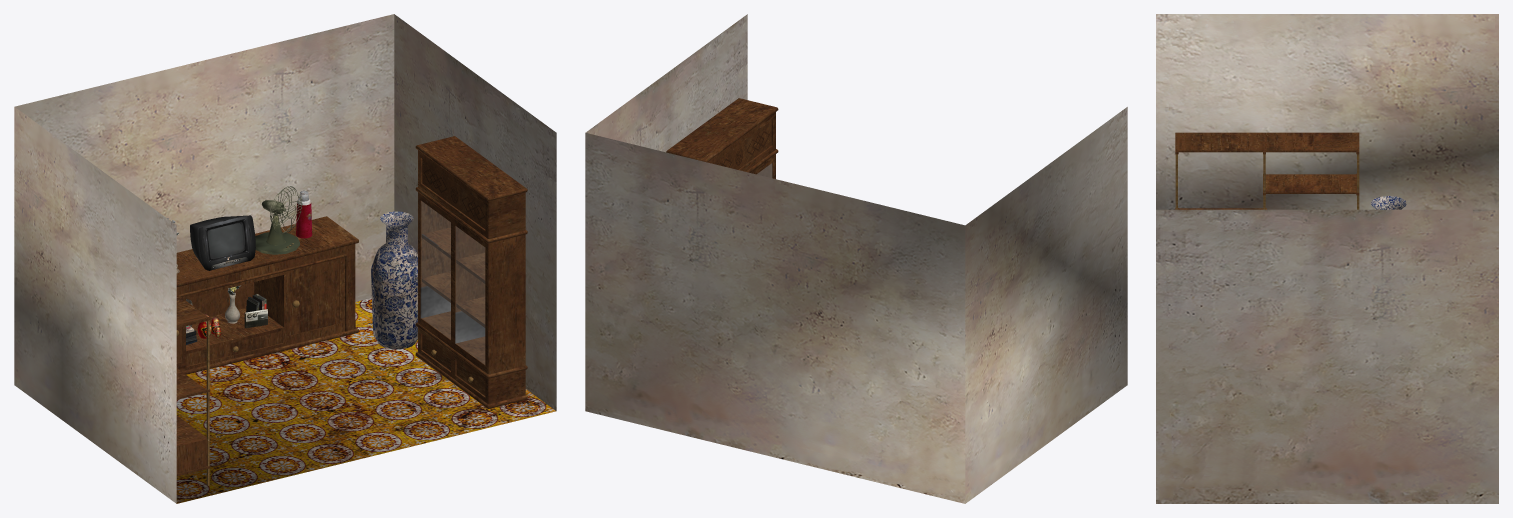
Rendered from vietnamese_house_in_2000s.glb.
3 views of the same model, side by side, from view 1: azimuth 30°, elevation 25°; view 2: azimuth 150°, elevation 25°; view 3: azimuth 270°, elevation 25° (orthographic). The views are drawn at different scales.
Parts seen in each view (by area): view 1: ExteriorWall1.002, ExteriorWall1.007, shelf 3.001, shelf 1.001, glass.001, vase.002, shelf 2.001, tv.001, prop1.001, prop3.001, prop6.001; view 2: ExteriorWall1.002, shelf 3.001; view 3: ExteriorWall1.002, shelf 2.001, vase.001.
Boxes of the visible parts, left/top/right/bottom form: ExteriorWall1.002: left=14, top=14, right=556, bottom=503; ExteriorWall1.007: left=176, top=298, right=555, bottom=503; shelf 3.001: left=415, top=136, right=527, bottom=408; shelf 1.001: left=176, top=216, right=358, bottom=374; glass.001: left=421, top=201, right=484, bottom=364; vase.002: left=371, top=211, right=417, bottom=349; shelf 2.001: left=176, top=294, right=210, bottom=485; tv.001: left=190, top=215, right=255, bottom=270; prop1.001: left=255, top=186, right=312, bottom=254; prop3.001: left=197, top=285, right=240, bottom=338; prop6.001: left=244, top=294, right=267, bottom=328; ExteriorWall1.002: left=585, top=14, right=1127, bottom=503; shelf 3.001: left=666, top=98, right=778, bottom=178; ExteriorWall1.002: left=1156, top=14, right=1498, bottom=503; shelf 2.001: left=1175, top=132, right=1359, bottom=209; vase.001: left=1371, top=196, right=1406, bottom=209.
Size of the model in its own units: 11.91 by 8.34 by 8.81.
5 materials, 4 textured.
